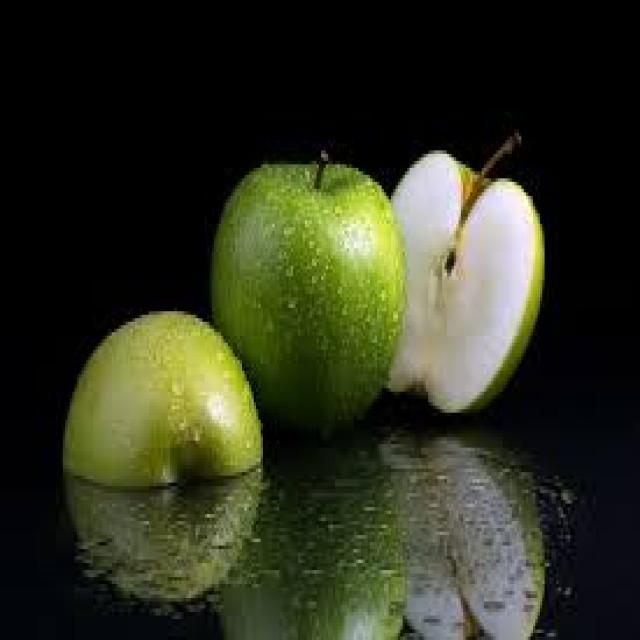non_orange: (172, 138, 426, 425)
